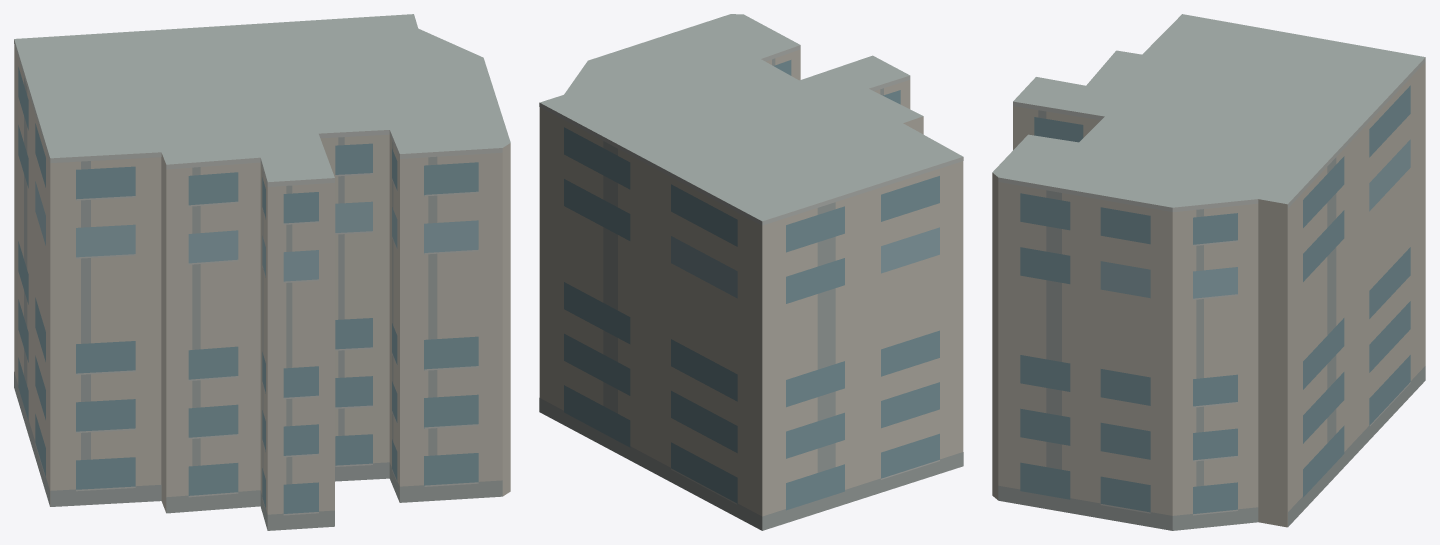
The model's file is survey-upis-32676815.glb.
3 renders of one model, left to right at view 1: azimuth 30°, elevation 25°; view 2: azimuth 150°, elevation 25°; view 3: azimuth 270°, elevation 25°, orthographic. The views are drawn at different scales.
Visible parts, largest first — view 1: survey-upis-32676815.tmp; view 2: survey-upis-32676815.tmp; view 3: survey-upis-32676815.tmp.
Part boxes in pixels (<box>): survey-upis-32676815.tmp: <box>14,14,510,530</box>; survey-upis-32676815.tmp: <box>539,14,963,530</box>; survey-upis-32676815.tmp: <box>992,14,1425,530</box>.
Size of the model in its own units: 22.5 by 17.5 by 21.28.
